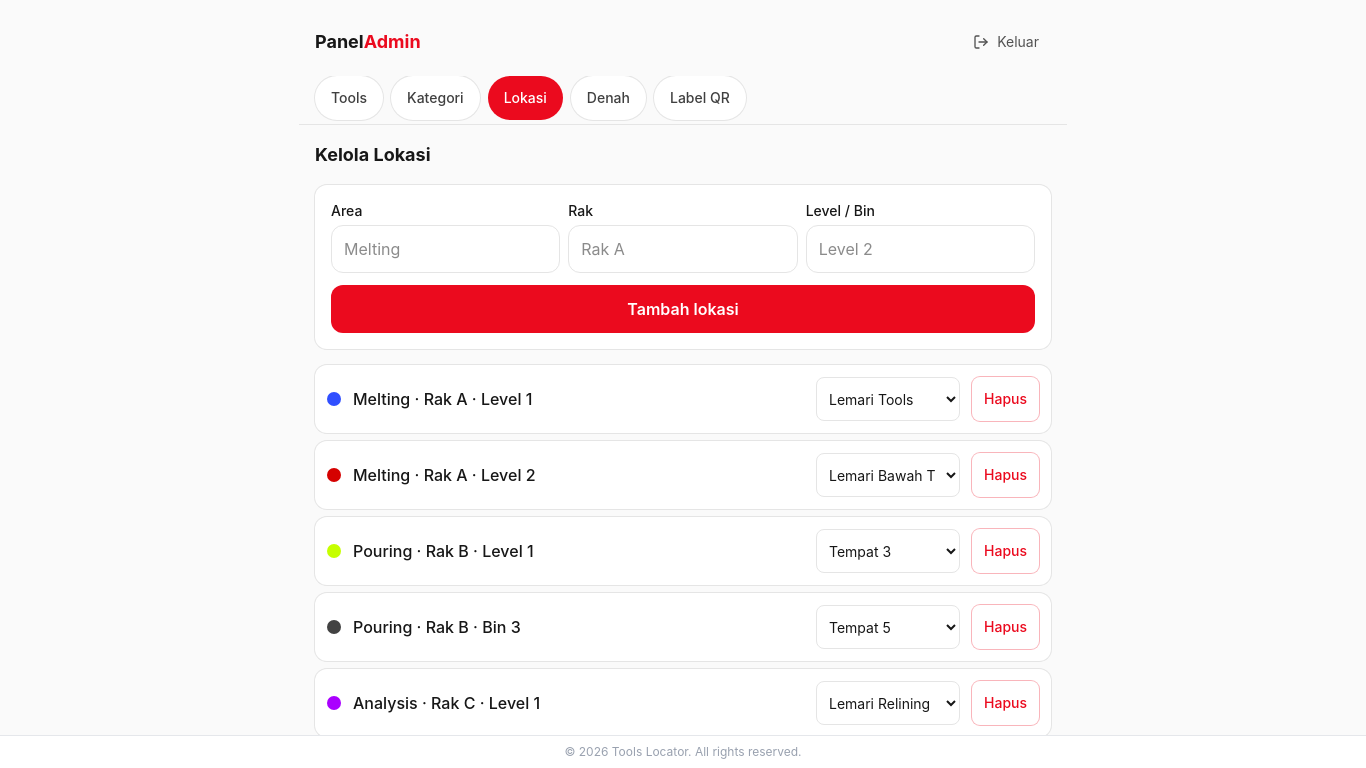
Test case: menolak simpan saat ada bagian lokasi yang kosong
Expected: the text "Melting · Rak A · Level 1" is shown, [353,389,532,409]
Type "Finishing" into the field labelled "Area" at (446, 249), box [331,225,560,273]
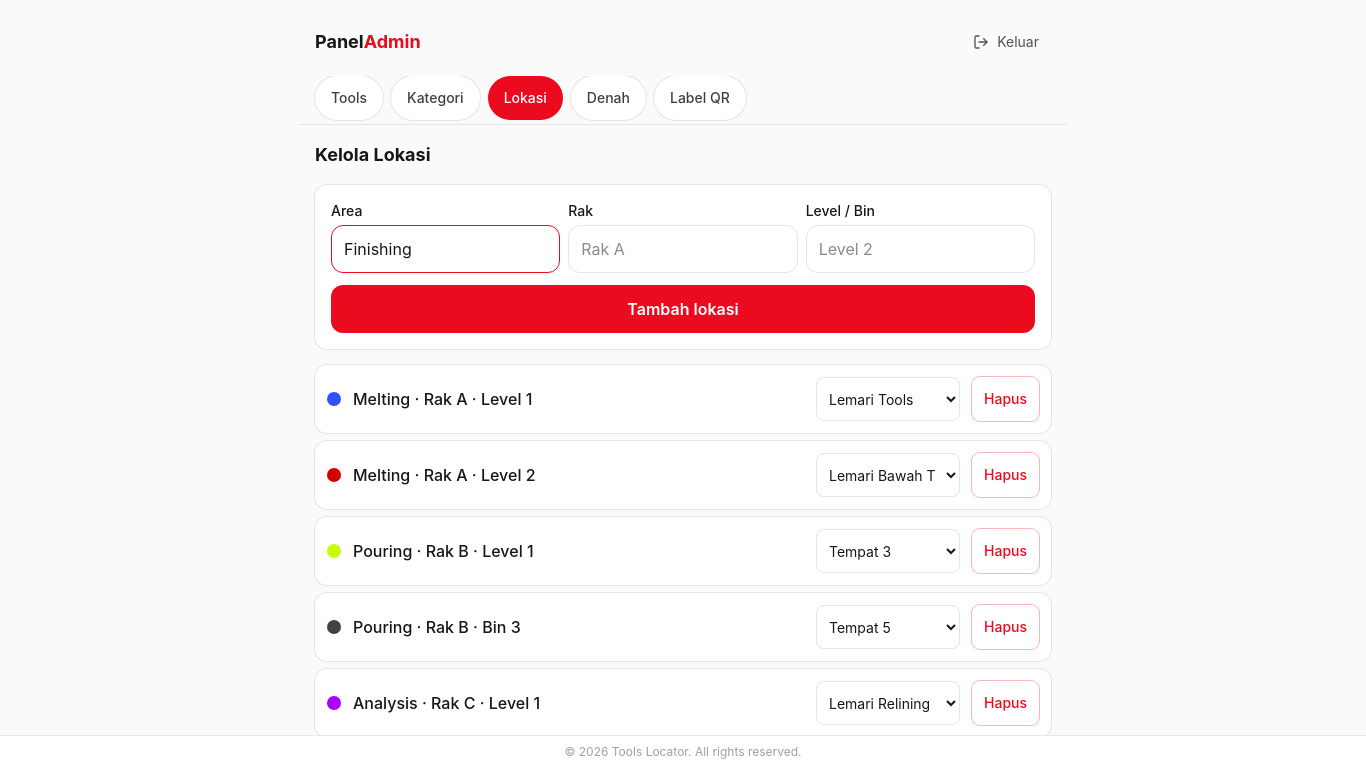
Click the button "Tambah lokasi" at (683, 309), box [331,285,1035,333]
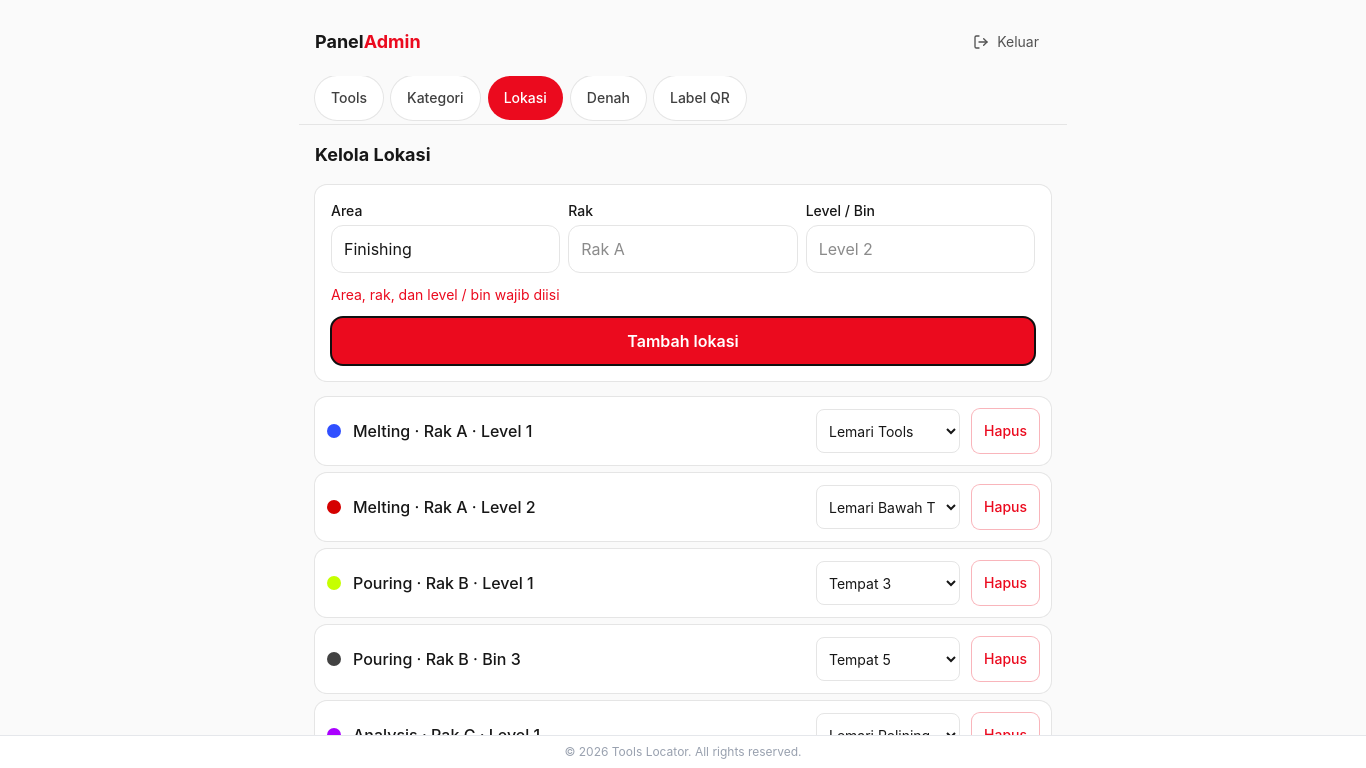
Now the text "Area, rak, dan level / bin wajib diisi" is shown, box [331,286,560,303]
